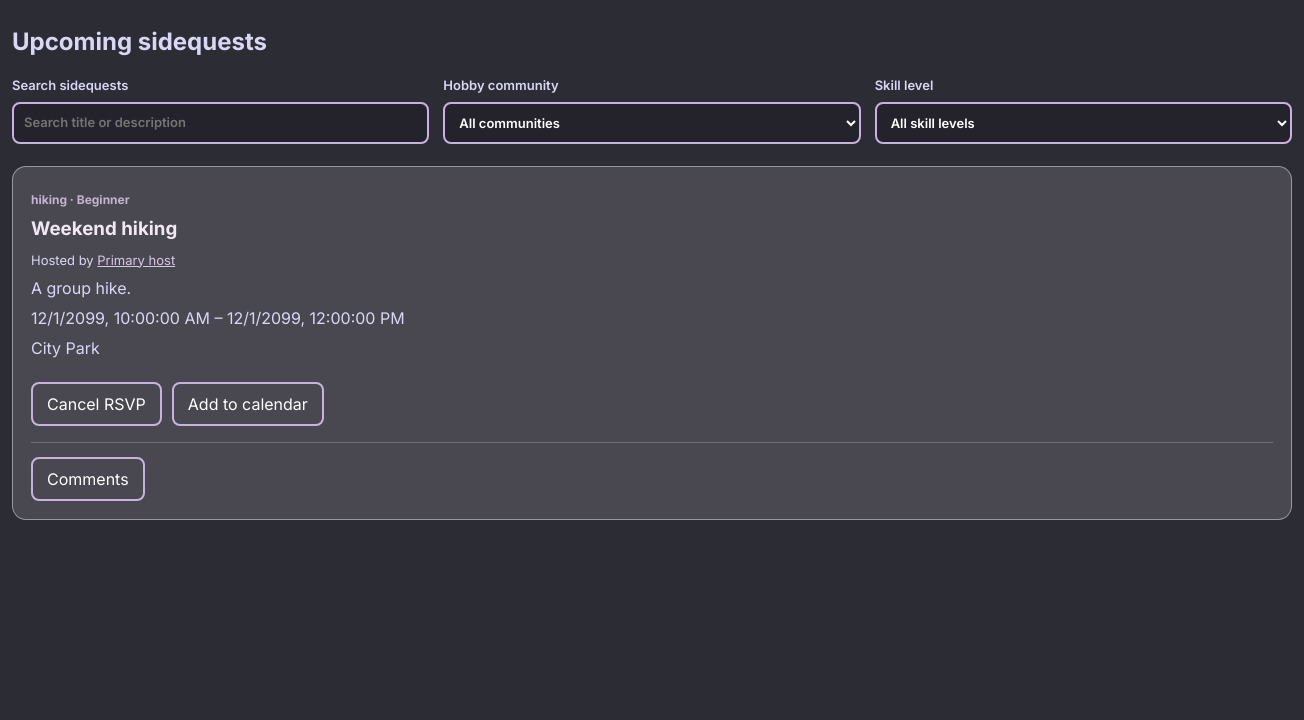
Test case: only an explicit calendar click authorizes Google and sends the event details
The image size is (1304, 720).
Click the button "Add to calendar": x=248, y=404 [172,382,324,426]
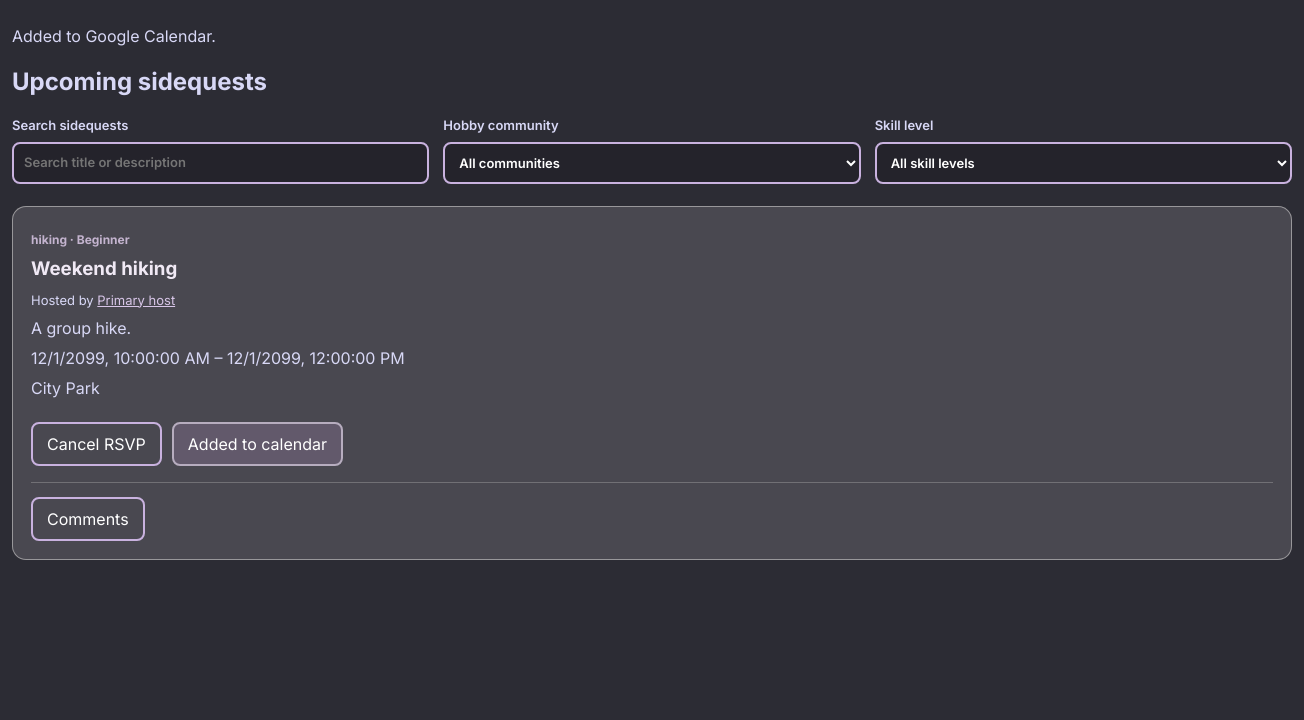
Expected: the message reads "Added to Google Calendar.", [12,26,216,46]
